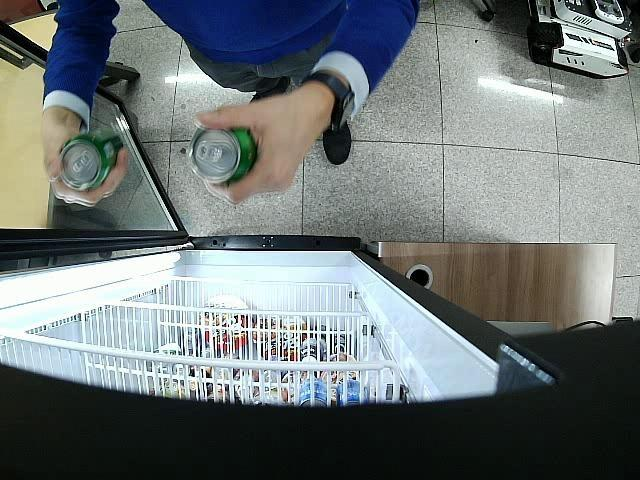12_chilsungCider: (187, 125, 257, 185), (59, 132, 124, 192)
